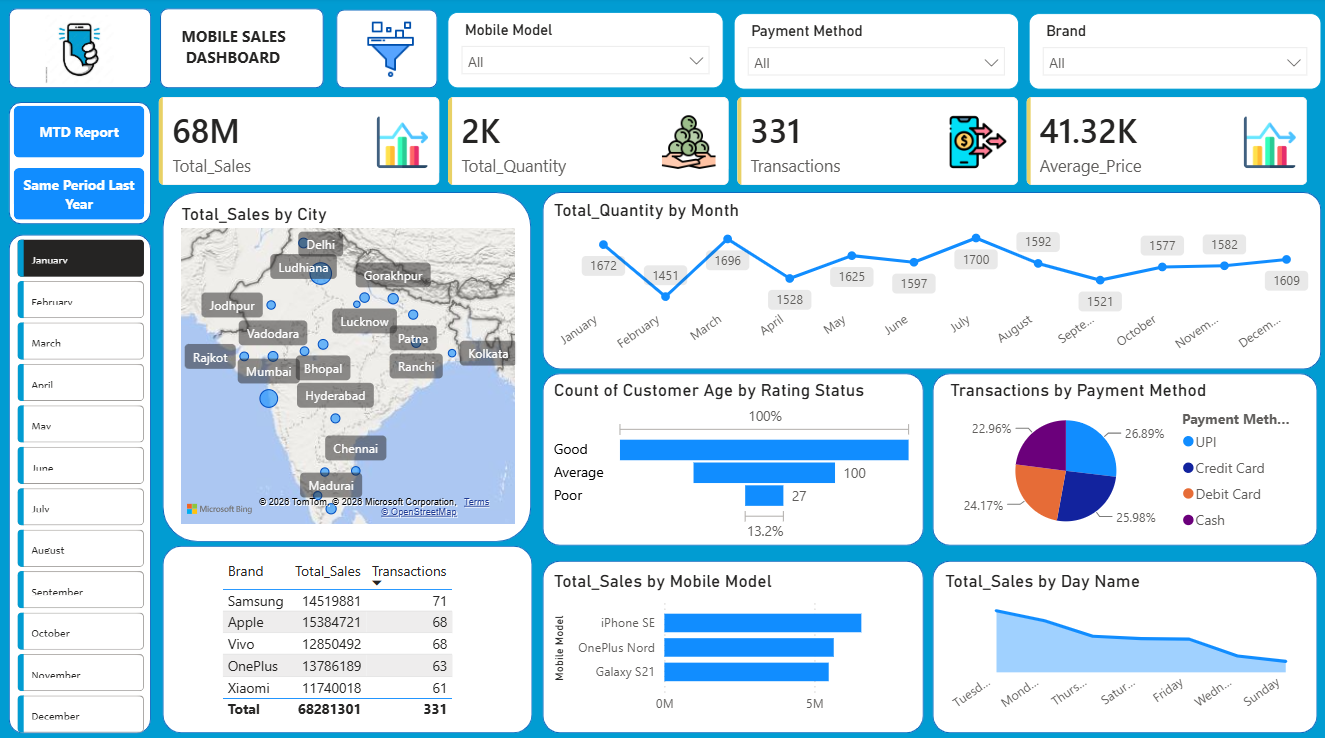

This screenshot's page, from the dashboard's own definition file:
{"tool":"powerbi","page":{"name":"Dashbord","canvas":[1280,720],"ordinal":0},"visuals":[{"type":"shape","box":[8.4,10.9,137.5,77.2],"z":0},{"type":"shape","box":[9.7,92.9,137.5,117],"z":1000},{"type":"shape","box":[8.4,216,137.5,494.6],"z":2000},{"type":"shape","box":[154.4,10.9,158,77.2],"z":3000},{"type":"shape","box":[324.5,12.1,97.7,76],"z":4000},{"type":"shape","box":[156.8,188.2,355.9,337.8],"z":5000},{"type":"shape","box":[156.8,529.6,357.1,181],"z":6000},{"type":"shape","box":[523.6,188.2,751.6,171.3],"z":7000},{"type":"shape","box":[523.6,363.1,368,166.5],"z":8000},{"type":"shape","box":[523.6,544.1,368,166.5],"z":9000},{"type":"shape","box":[900,363.1,371.6,166.5],"z":10000},{"type":"shape","box":[900,544.1,371.6,166.5],"z":11000},{"type":"advancedSlicerVisual","fields":{"Values":["Custom_Calender.Date.Variation.Date Hierarchy.Month"]},"box":[12.1,216,132.7,504.3],"z":12000},{"type":"cardVisual","fields":{"Data":["Sales_Data.Total_Sales","Sales_Data.Total_Quantity","Sales_Data.Transactions","Sales_Data.Average_Price"]},"box":[136.3,79.6,1143.7,119.4],"z":13000},{"type":"slicer","fields":{"Values":["Sales_Data.Mobile Model"]},"box":[431.9,14.5,266.6,73.6],"z":14000},{"type":"slicer","fields":{"Values":["Sales_Data.Payment Method"]},"box":[708.2,15.7,275.1,73.6],"z":15000},{"type":"slicer","fields":{"Values":["Sales_Data.Brand"]},"box":[992.9,15.7,282.3,73.6],"z":16000},{"type":"image","box":[331.8,22.9,90.5,55.5],"z":17000},{"type":"textbox","box":[170.1,22.9,127.9,56.7],"z":18000},{"type":"image","box":[43.4,10.9,66.4,79.6],"z":19000},{"type":"map","fields":{"Category":["Sales_Data.City"],"Size":["Sales_Data.Total_Sales"]},"box":[170,198.9,332.2,314.4],"z":20000},{"type":"lineChart","fields":{"Category":["Custom_Calender.Date.Variation.Date Hierarchy.Month"],"Y":["Sales_Data.Total_Quantity"]},"box":[530,195,741.2,157.5],"z":21000},{"type":"funnel","fields":{"Y":["CountNonNull(Sales_Data.Customer Age)"],"Category":["Sales_Data.Rating Status"]},"box":[530,368.8,357.5,161.2],"z":22000},{"type":"pieChart","fields":{"Category":["Sales_Data.Payment Method"],"Y":["Sales_Data.Transactions"]},"box":[912.5,368.8,343.8,157.5],"z":23000},{"type":"clusteredBarChart","fields":{"Y":["Sales_Data.Total_Sales"],"Category":["Sales_Data.Mobile Model"]},"box":[530,553.8,357.5,146.2],"z":24000},{"type":"areaChart","fields":{"Y":["Sales_Data.Total_Sales"],"Category":["Custom_Calender.Day Name"]},"box":[907.5,553.8,357.5,146.2],"z":25000},{"type":"tableEx","fields":{"Values":["Sales_Data.Brand","Sales_Data.Total_Sales","Sales_Data.Transactions"]},"box":[208.7,538.1,293.2,179.8],"z":26000},{"type":"pageNavigator","box":[14.5,97.7,126.7,105],"z":27000}]}

Visuals, with their boxes in screenshot pixels (x1, y1, x2, y2), scaled from the page's 1280x720 canvas onto the 1325x738 screenshot:
shape: x1=9 y1=11 x2=151 y2=90
shape: x1=10 y1=95 x2=152 y2=215
shape: x1=9 y1=221 x2=151 y2=728
shape: x1=160 y1=11 x2=323 y2=90
shape: x1=336 y1=12 x2=437 y2=90
shape: x1=162 y1=193 x2=531 y2=539
shape: x1=162 y1=543 x2=532 y2=728
shape: x1=542 y1=193 x2=1320 y2=368
shape: x1=542 y1=372 x2=923 y2=543
shape: x1=542 y1=558 x2=923 y2=728
shape: x1=932 y1=372 x2=1316 y2=543
shape: x1=932 y1=558 x2=1316 y2=728
advancedSlicerVisual - Custom_Calender.Date.Variation.Date Hierarchy.Month: x1=13 y1=221 x2=150 y2=737
cardVisual - Sales_Data.Total_Sales x Sales_Data.Total_Quantity: x1=141 y1=82 x2=1324 y2=204
slicer - Sales_Data.Mobile Model: x1=447 y1=15 x2=723 y2=90
slicer - Sales_Data.Payment Method: x1=733 y1=16 x2=1018 y2=92
slicer - Sales_Data.Brand: x1=1028 y1=16 x2=1320 y2=92
image: x1=343 y1=23 x2=437 y2=80
textbox: x1=176 y1=23 x2=308 y2=82
image: x1=45 y1=11 x2=114 y2=93
map - Sales_Data.City x Sales_Data.Total_Sales: x1=176 y1=204 x2=520 y2=526
lineChart - Custom_Calender.Date.Variation.Date Hierarchy.Month x Sales_Data.Total_Quantity: x1=549 y1=200 x2=1316 y2=361
funnel - CountNonNull(Sales_Data.Customer Age) x Sales_Data.Rating Status: x1=549 y1=378 x2=919 y2=543
pieChart - Sales_Data.Payment Method x Sales_Data.Transactions: x1=945 y1=378 x2=1300 y2=539
clusteredBarChart - Sales_Data.Total_Sales x Sales_Data.Mobile Model: x1=549 y1=568 x2=919 y2=717
areaChart - Sales_Data.Total_Sales x Custom_Calender.Day Name: x1=939 y1=568 x2=1309 y2=717
tableEx - Sales_Data.Brand x Sales_Data.Total_Sales: x1=216 y1=552 x2=520 y2=736
pageNavigator: x1=15 y1=100 x2=146 y2=208
